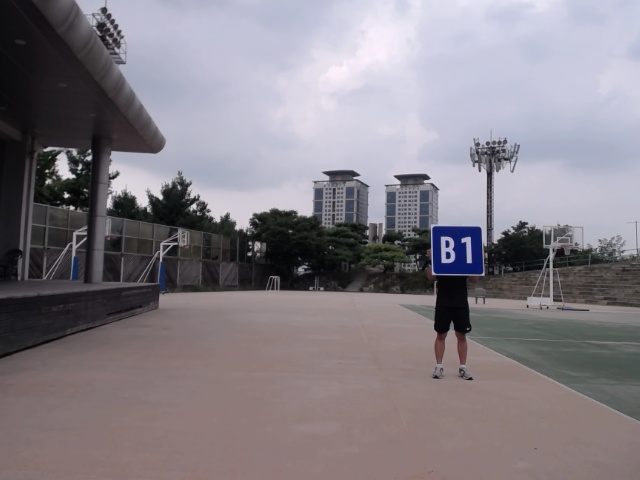delivery_b1: (431, 225, 485, 276)
